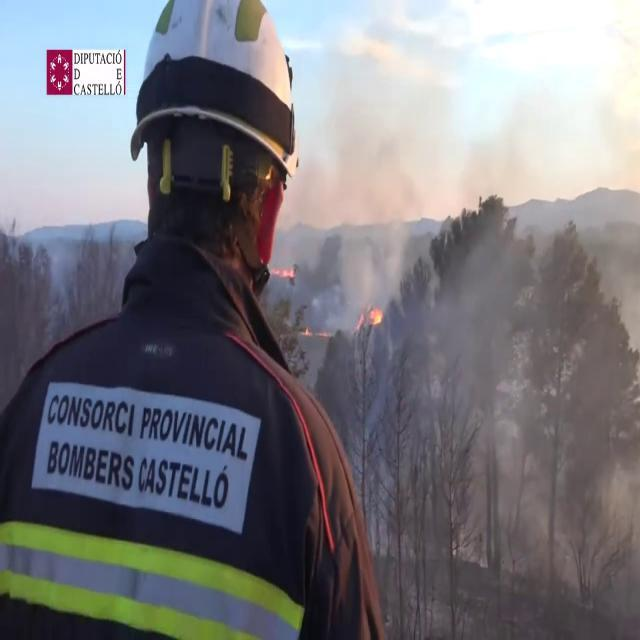Smoke: (315, 145, 555, 540)
